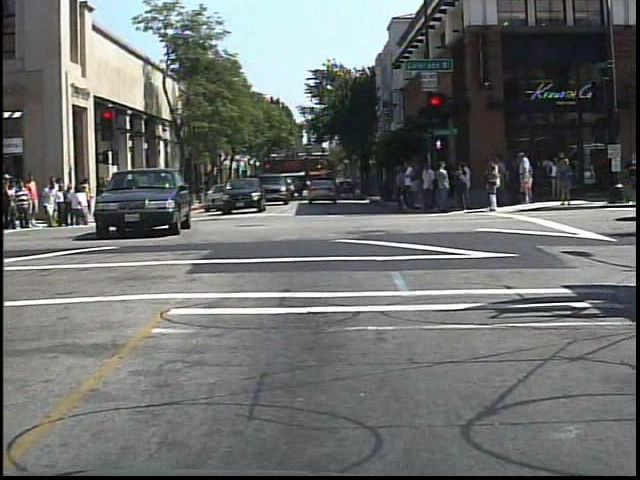person: (513, 148, 538, 206), (41, 175, 63, 231), (12, 179, 34, 233)
